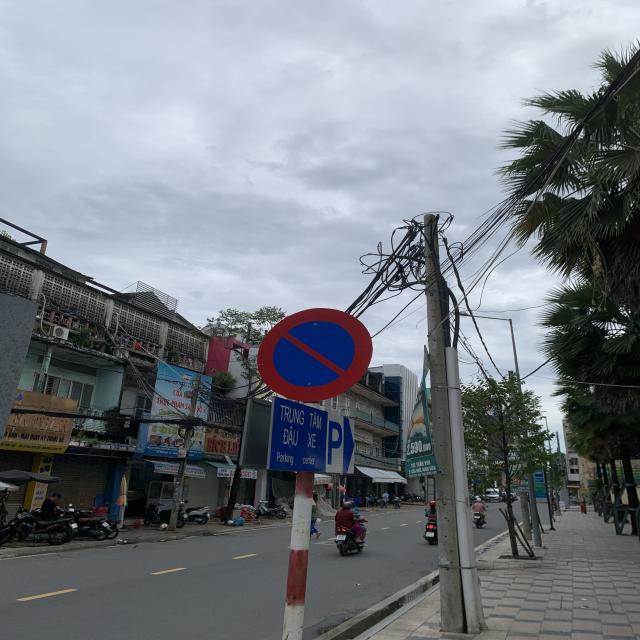Cam_Dau_Xe: (259, 306, 375, 399)
